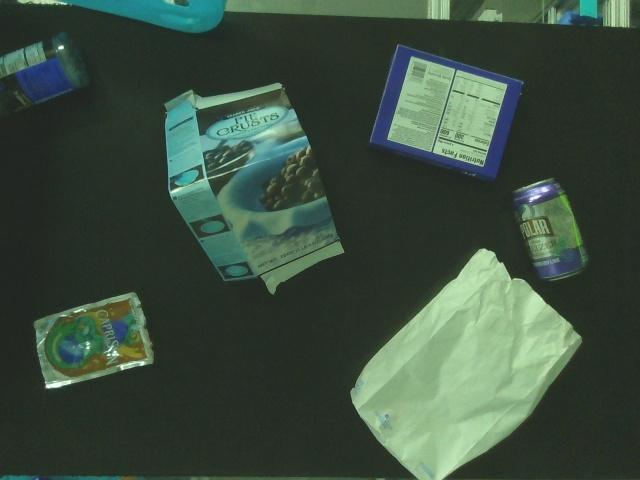cardboard: (158, 80, 348, 294), (368, 40, 526, 184)
metal: (508, 176, 594, 283)
paper: (350, 246, 585, 480)
plastic: (33, 290, 159, 391), (0, 26, 94, 114)
